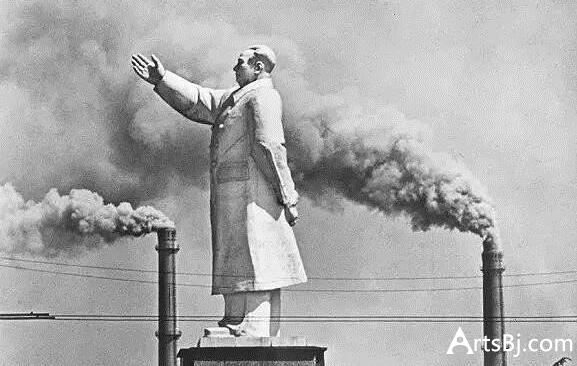dust: (370, 142, 505, 248), (28, 184, 180, 244)
